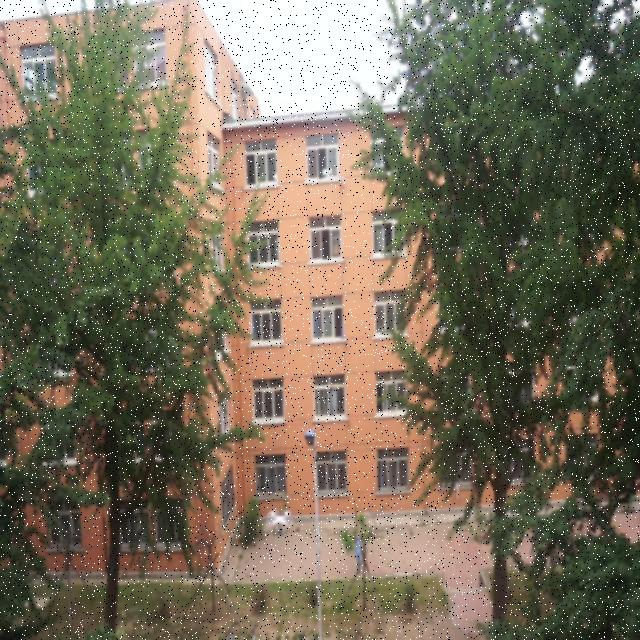UAV: (266, 510, 293, 534)
